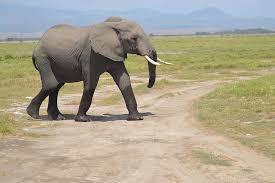elephant: (28, 17, 156, 119)
